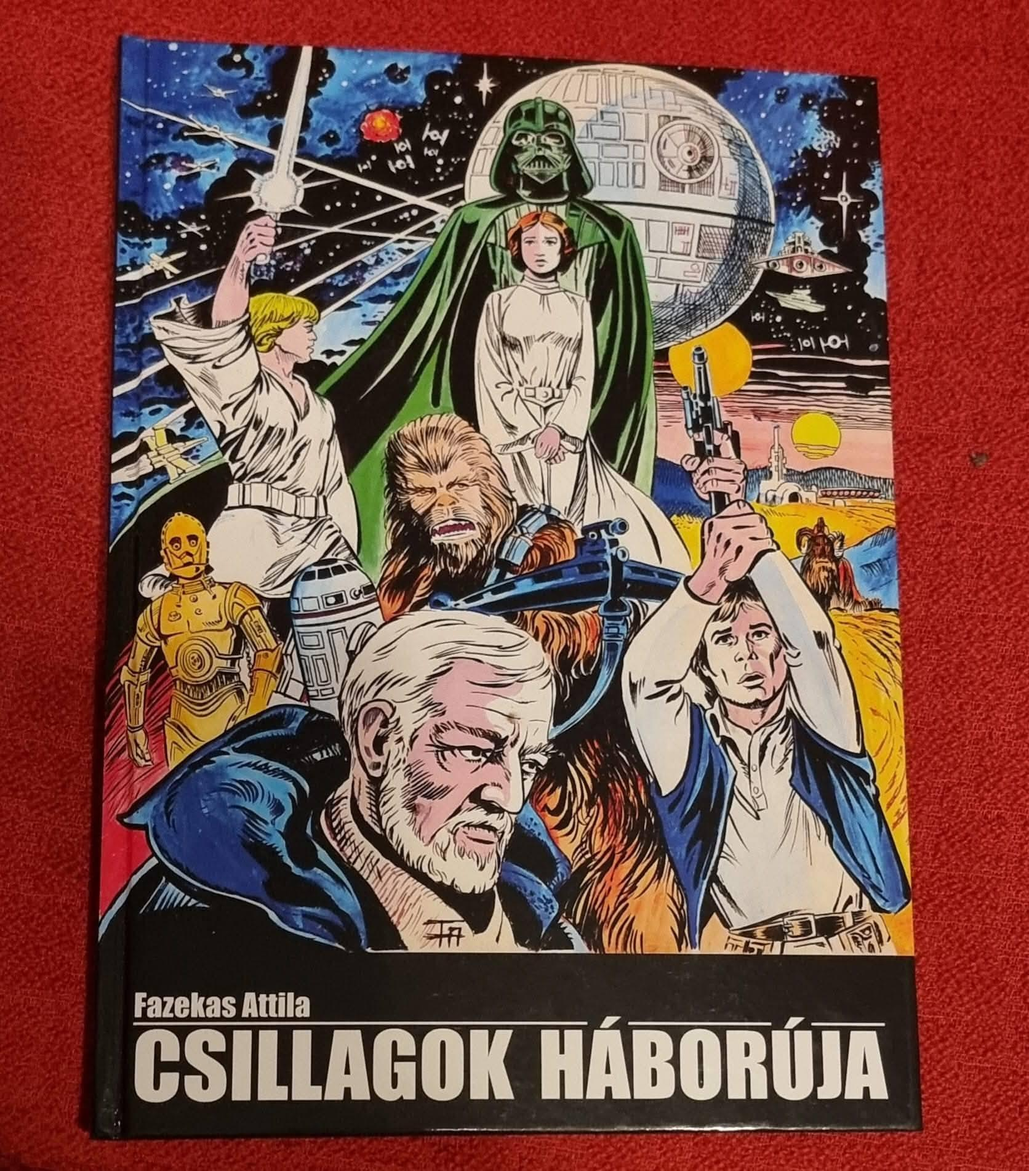comic: (95, 38, 942, 1153)
